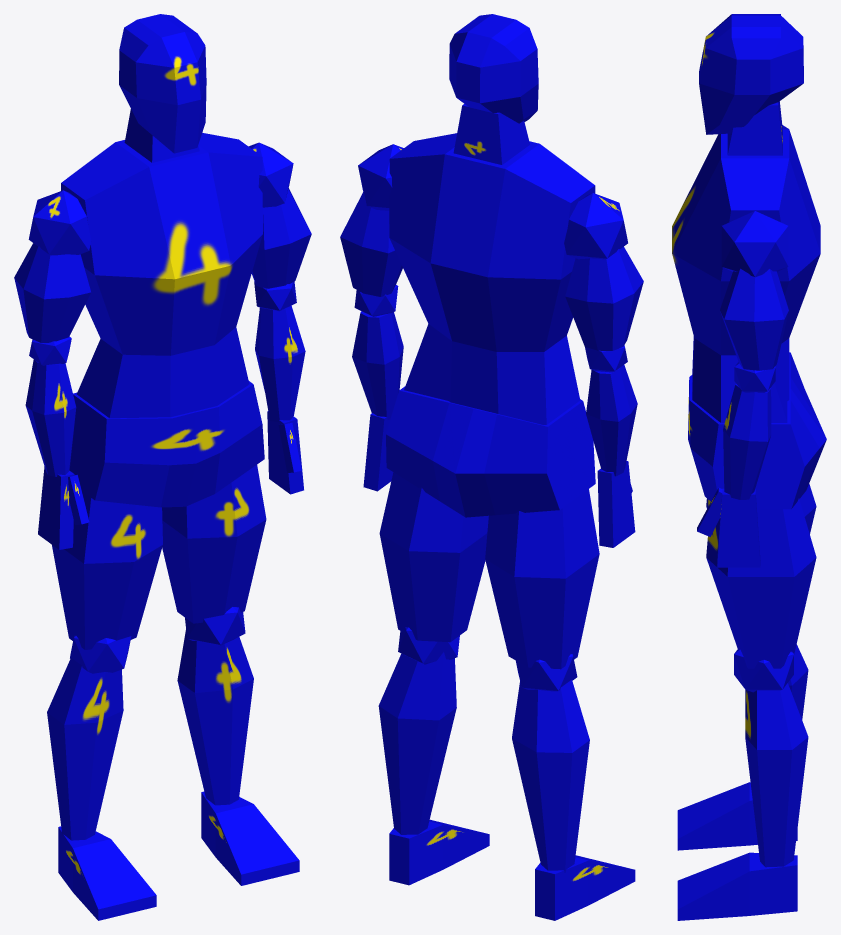
Rendered from EnemySpawn4.fbx.
3 renders of one model, left to right at view 1: azimuth 30°, elevation 25°; view 2: azimuth 150°, elevation 25°; view 3: azimuth 270°, elevation 25°, orthographic. The views are drawn at different scales.
Visible parts, largest first — view 1: Character_Cube.001; view 2: Character_Cube.001; view 3: Character_Cube.001.
Boxes of the visible parts, x1,y1,x2,y2 form: Character_Cube.001: (14,14,311,920); Character_Cube.001: (340,14,643,920); Character_Cube.001: (672,14,826,920).
Bounding box in the file's own units: 1.1 × 3.18 × 0.525.
1 material, 1 textured.
